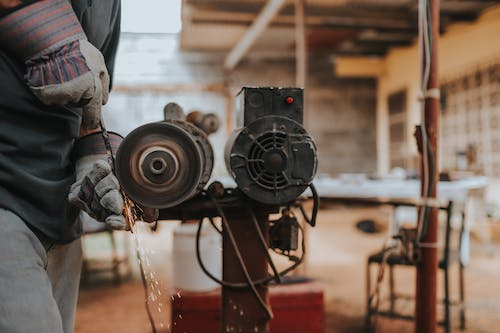knife: (99, 118, 135, 235)
